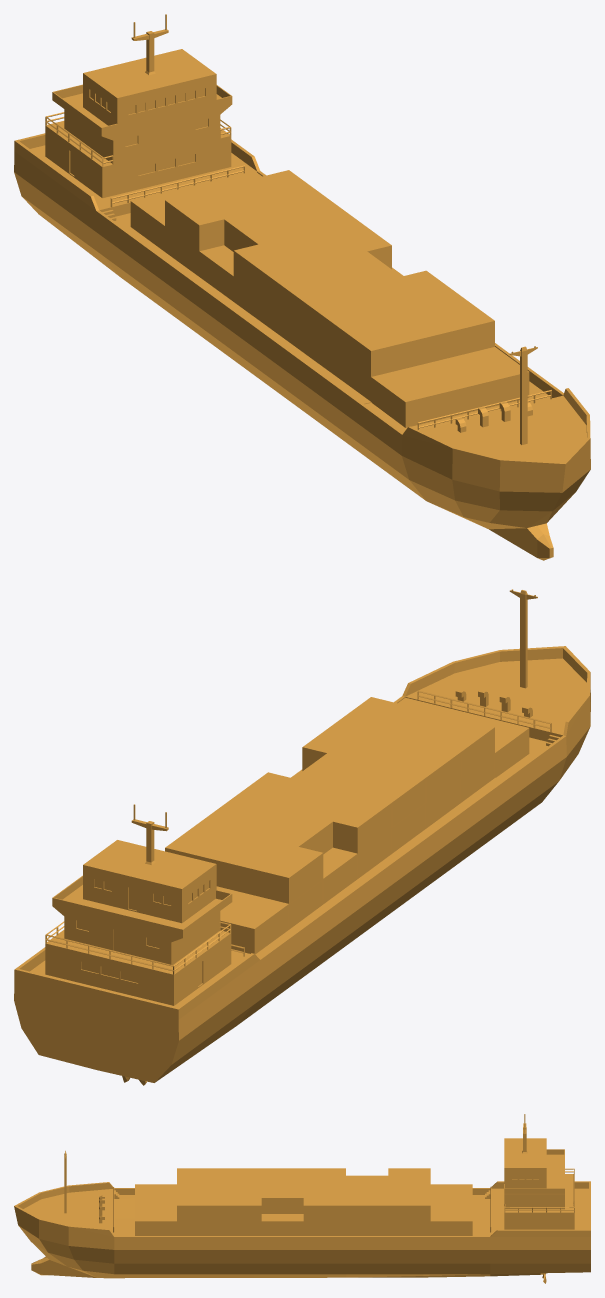
File: ship-cargo.glb
3 renders of one model, top to bottom at view 1: azimuth 30°, elevation 25°; view 2: azimuth 150°, elevation 25°; view 3: azimuth 270°, elevation 25°, orthographic. The views are drawn at different scales.
Parts seen in each view (by area): view 1: ship-cargo-base, ship-cargos; view 2: ship-cargo-base, ship-cargos; view 3: ship-cargo-base, ship-cargos.
Boxes of the visible parts, x1,y1,x2,y2 form: ship-cargo-base: (14,14,590,560); ship-cargos: (130,170,529,427); ship-cargo-base: (14,589,590,1085); ship-cargos: (165,697,529,954); ship-cargo-base: (14,1114,590,1283); ship-cargos: (135,1168,472,1235).
Size of the model in its own units: 16.64 by 25.43 by 81.97.
